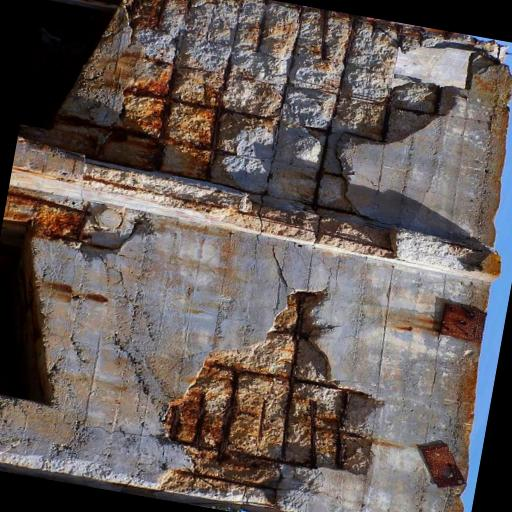spalling: (84, 0, 445, 215), (152, 284, 385, 511), (7, 181, 150, 263)
